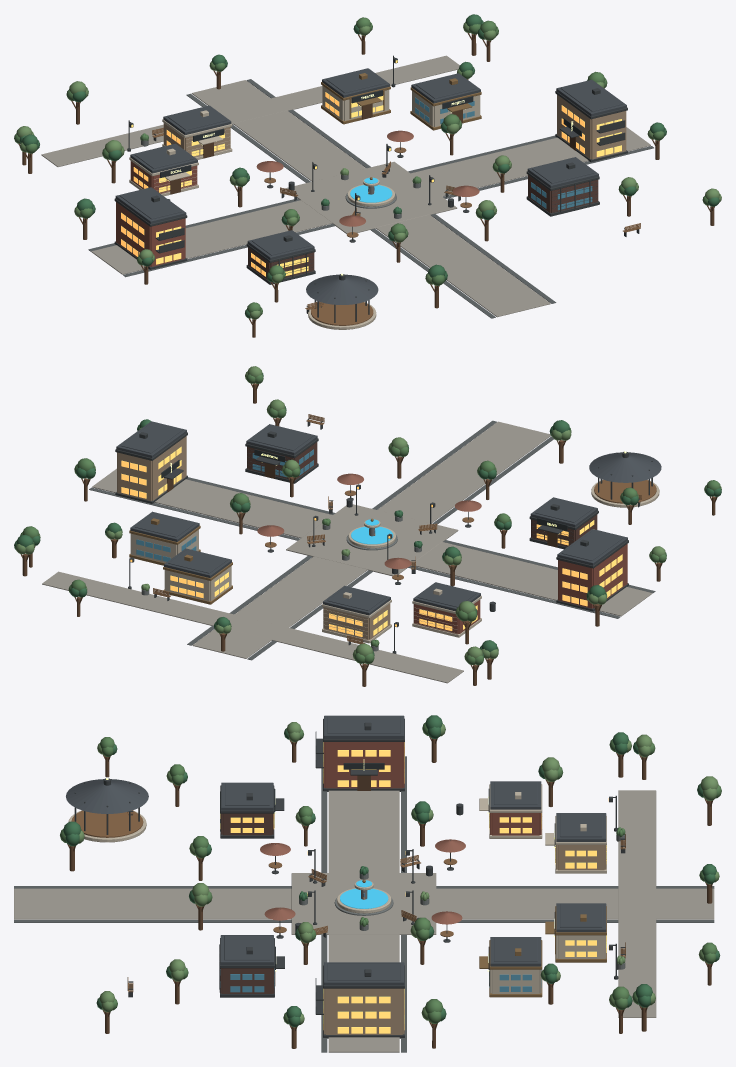
Rendered from heartbeat-town-realism-v1.glb.
The picture shows the model from 3 angles, top to bottom: view 1: azimuth 30°, elevation 25°; view 2: azimuth 150°, elevation 25°; view 3: azimuth 270°, elevation 25°; orthographic projection. The views are drawn at different scales.
Parts seen in each view (by area): view 1: Town_Paving_Stone, Town_Roof_Slate, Town_Metal_Black, Town_Asphalt, Town_Stone_Limestone, Town_Glass_Warm, Town_Leaves_Olive, Town_Brick_Red, Town_Brick_Buff, Town_Leaves_Deep, Town_Leaves_Sage, Town_Tree_Bark (+8 smaller); view 2: Town_Paving_Stone, Town_Roof_Slate, Town_Asphalt, Town_Stone_Limestone, Town_Metal_Black, Town_Glass_Warm, Town_Brick_Buff, Town_Brick_Red, Town_Leaves_Olive, Town_Leaves_Sage, Town_Leaves_Deep, Town_Tree_Bark (+7 smaller); view 3: Town_Paving_Stone, Town_Roof_Slate, Town_Metal_Black, Town_Asphalt, Town_Stone_Limestone, Town_Brick_Buff, Town_Brick_Red, Town_Glass_Warm, Town_Leaves_Sage, Town_Leaves_Deep, Town_Leaves_Olive, Town_Tree_Bark (+8 smaller).
Boxes of the visible parts, bbox=[...] form: Town_Paving_Stone: bbox=[41, 55, 650, 317]; Town_Roof_Slate: bbox=[115, 68, 626, 304]; Town_Metal_Black: bbox=[114, 55, 639, 322]; Town_Asphalt: bbox=[88, 79, 653, 318]; Town_Stone_Limestone: bbox=[129, 85, 480, 329]; Town_Glass_Warm: bbox=[121, 60, 621, 276]; Town_Leaves_Olive: bbox=[14, 17, 709, 315]; Town_Brick_Red: bbox=[116, 161, 197, 266]; Town_Brick_Buff: bbox=[163, 95, 626, 159]; Town_Leaves_Deep: bbox=[19, 14, 719, 318]; Town_Leaves_Sage: bbox=[16, 22, 721, 319]; Town_Tree_Bark: bbox=[18, 33, 714, 337]; Town_Paving_Stone: bbox=[42, 421, 652, 683]; Town_Roof_Slate: bbox=[116, 421, 661, 615]; Town_Asphalt: bbox=[89, 420, 655, 660]; Town_Stone_Limestone: bbox=[130, 479, 659, 643]; Town_Metal_Black: bbox=[115, 418, 652, 653]; Town_Glass_Warm: bbox=[121, 446, 622, 636]; Town_Brick_Buff: bbox=[117, 436, 390, 639]; Town_Brick_Red: bbox=[413, 544, 627, 634]; Town_Leaves_Olive: bbox=[20, 374, 720, 665]; Town_Leaves_Sage: bbox=[15, 366, 721, 660]; Town_Leaves_Deep: bbox=[14, 373, 721, 657]; Town_Tree_Bark: bbox=[20, 383, 717, 686]; Town_Paving_Stone: bbox=[14, 790, 714, 1052]; Town_Roof_Slate: bbox=[66, 715, 606, 985]; Town_Metal_Black: bbox=[74, 718, 625, 1038]; Town_Asphalt: bbox=[14, 756, 714, 1052]; Town_Stone_Limestone: bbox=[68, 784, 606, 993]; Town_Brick_Buff: bbox=[323, 845, 606, 1034]; Town_Brick_Red: bbox=[323, 742, 541, 835]; Town_Glass_Warm: bbox=[220, 742, 608, 1033]; Town_Leaves_Sage: bbox=[79, 722, 719, 1024]; Town_Leaves_Deep: bbox=[63, 715, 720, 1027]; Town_Leaves_Olive: bbox=[60, 722, 721, 1024]; Town_Tree_Bark: bbox=[67, 736, 713, 1048].
Size of the model in its own units: 60.24 by 5.86 by 60.66.
